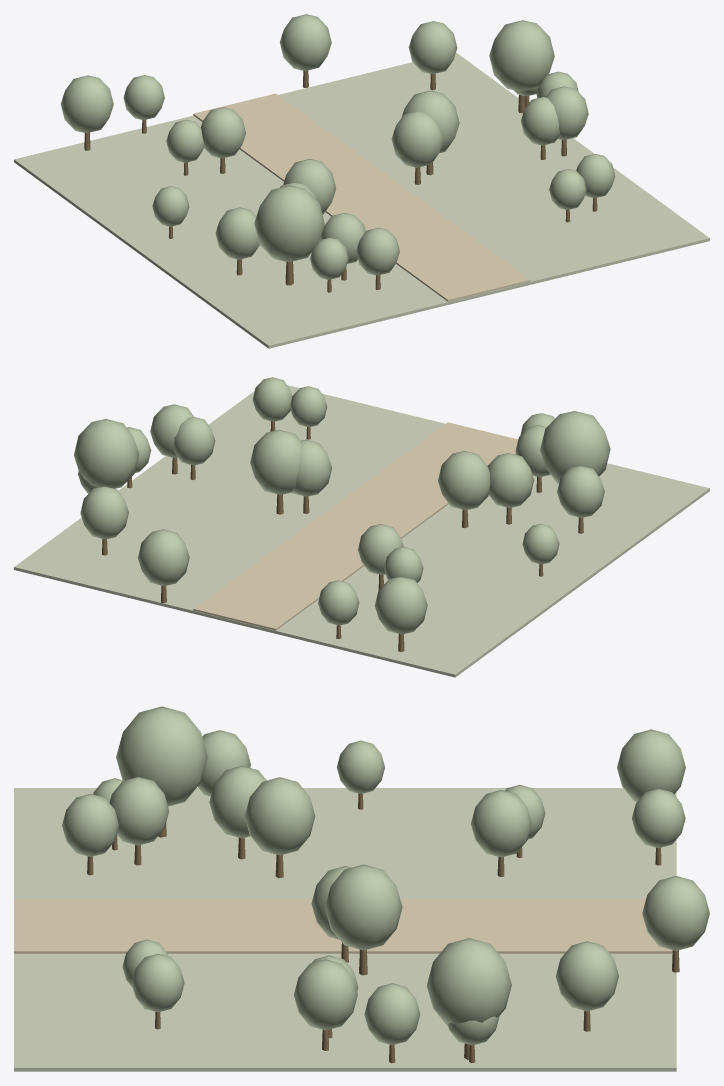
3 renders of one model, top to bottom at view 1: azimuth 30°, elevation 25°; view 2: azimuth 150°, elevation 25°; view 3: azimuth 270°, elevation 25°, orthographic. The views are drawn at different scales.
Parts seen in each view (by area): view 1: terrain, object 2, lod-near-20, lod-near-1, lod-near-19, lod-near-31, lod-near-7, lod-near-4, lod-near-25, lod-near-0, lod-near-24, lod-near-8 (+11 smaller); view 2: terrain, object 2, lod-near-20, lod-near-1, lod-near-8, lod-near-2, lod-near-19, lod-near-31, lod-near-5, lod-near-4, lod-near-0, lod-near-7 (+10 smaller); view 3: terrain, object 2, lod-near-20, lod-near-1, lod-near-8, lod-near-2, lod-near-31, lod-near-19, lod-near-18, lod-near-4, lod-near-25, lod-near-10 (+11 smaller).
Part boxes in pixels (<box>): terrain: <box>14,52,709,348</box>; object 2: <box>193,93,530,301</box>; lod-near-20: <box>254,185,324,262</box>; lod-near-1: <box>489,20,554,91</box>; lod-near-19: <box>61,75,113,133</box>; lod-near-31: <box>279,14,331,70</box>; lod-near-7: <box>391,111,443,167</box>; lod-near-4: <box>408,21,457,74</box>; lod-near-25: <box>201,107,245,158</box>; lod-near-0: <box>215,207,259,259</box>; lod-near-24: <box>356,227,399,275</box>; lod-near-8: <box>401,90,459,152</box>; terrain: <box>14,385,709,677</box>; object 2: <box>193,422,518,630</box>; lod-near-20: <box>540,411,610,483</box>; lod-near-1: <box>74,419,139,488</box>; lod-near-8: <box>250,430,302,494</box>; lod-near-2: <box>438,451,490,510</box>; lod-near-19: <box>375,576,427,634</box>; lod-near-31: <box>138,529,189,585</box>; lod-near-5: <box>487,453,534,507</box>; lod-near-4: <box>80,486,128,539</box>; lod-near-0: <box>557,465,604,517</box>; lod-near-7: <box>292,439,331,496</box>; terrain: <box>14,788,676,1071</box>; object 2: <box>14,899,672,953</box>; lod-near-20: <box>116,706,207,806</box>; lod-near-1: <box>426,938,511,1026</box>; lod-near-8: <box>325,864,402,950</box>; lod-near-2: <box>244,777,315,855</box>; lod-near-31: <box>642,876,709,950</box>; lod-near-19: <box>617,729,685,801</box>; lod-near-18: <box>294,959,357,1030</box>; lod-near-4: <box>555,941,618,1011</box>; lod-near-25: <box>471,790,531,857</box>; lod-near-10: <box>109,777,169,845</box>.
Bounding box in the file's own units: 33.13 × 7.01 × 33.61.
